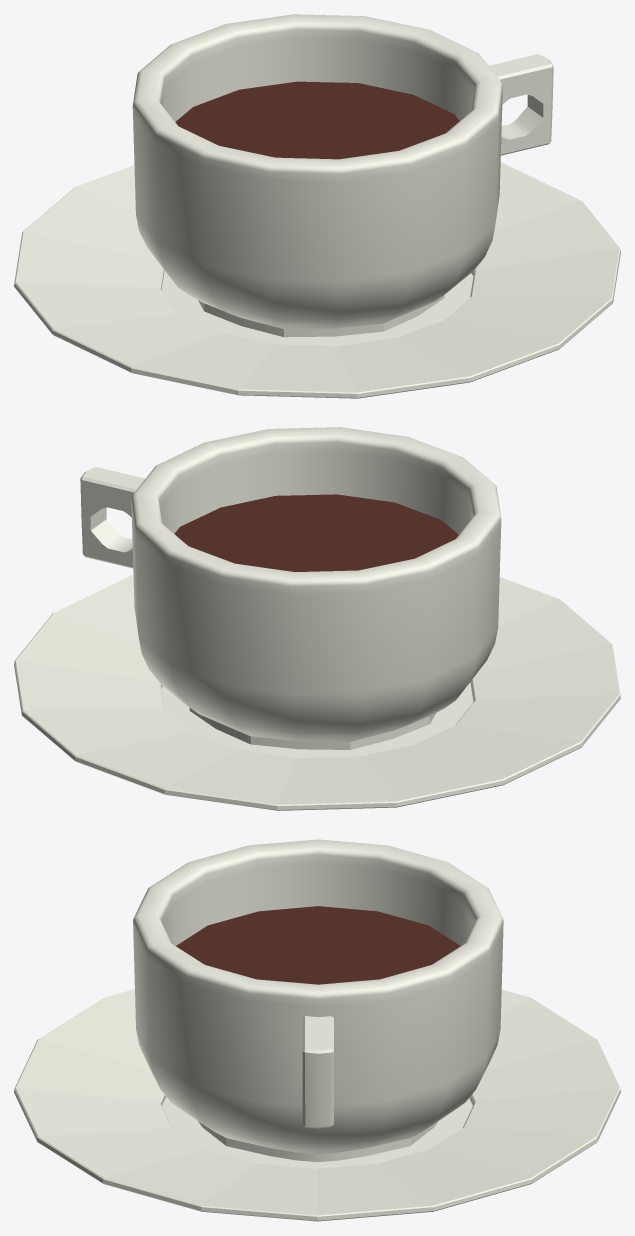
Rendered from coffee.glb.
The picture shows the model from 3 angles, top to bottom: view 1: azimuth 30°, elevation 25°; view 2: azimuth 150°, elevation 25°; view 3: azimuth 270°, elevation 25°; orthographic projection.
Parts seen in each view (by area): view 1: coffee_cup; view 2: coffee_cup; view 3: coffee_cup.
Part boxes in pixels (<box>): coffee_cup: <box>14,14,620,398</box>; coffee_cup: <box>14,427,620,810</box>; coffee_cup: <box>14,839,620,1221</box>.
Bounding box in the file's own units: 0.1423 × 0.0509 × 0.1423.
Materials: 1 (1 with a texture image).
